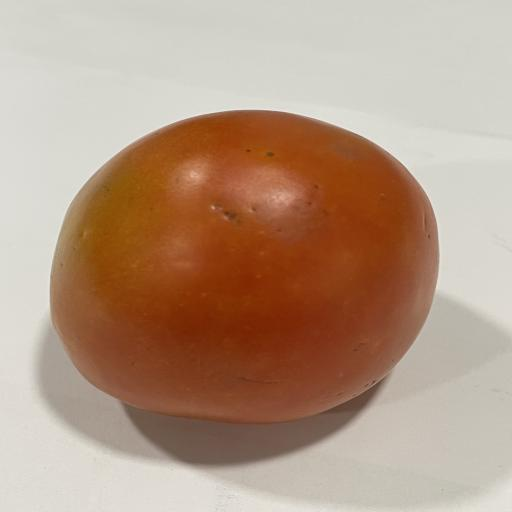ripe: (51, 110, 439, 423), (51, 110, 438, 423), (51, 111, 438, 423)
